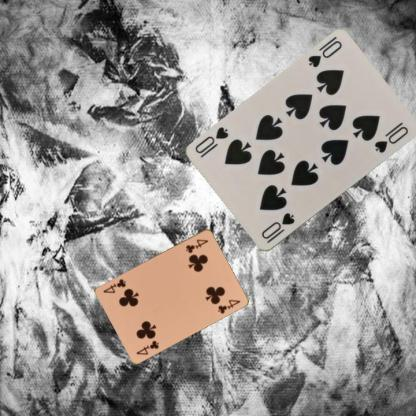10s: (258, 210, 296, 245), (305, 38, 343, 69)
4c: (134, 337, 160, 356), (184, 236, 209, 254)
